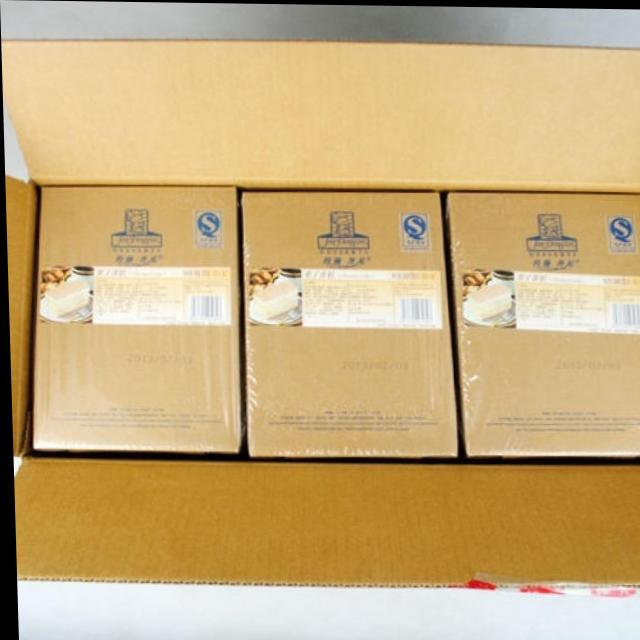box: (239, 192, 454, 455), (33, 184, 241, 453), (439, 191, 640, 454)
